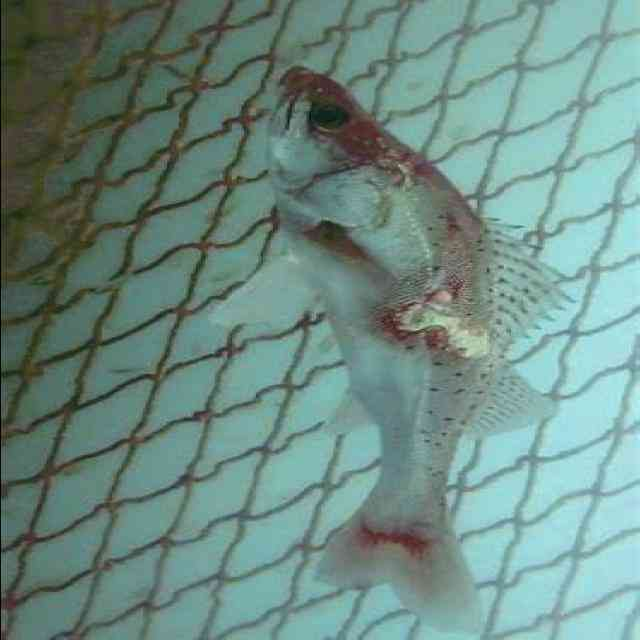EUS Disease: (255, 48, 573, 614), (358, 243, 492, 379)
